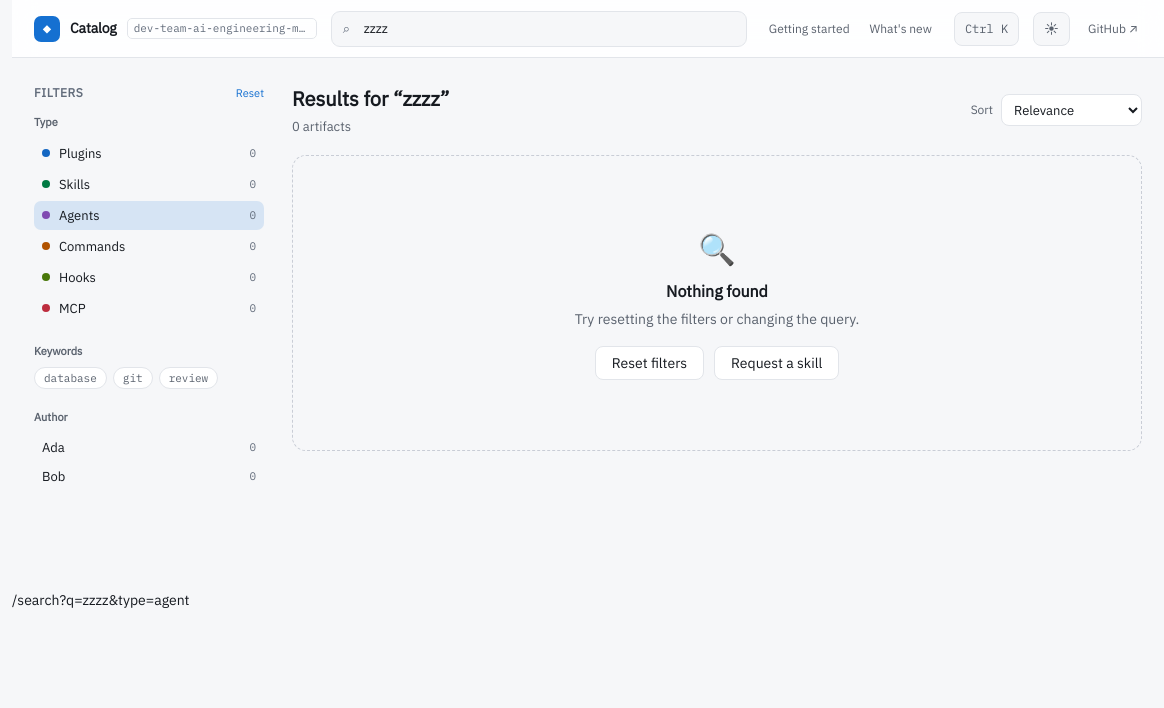
Test: search page URL state › shows the nothing-found state with Reset filters and Request a skill
expect the heading "Nothing found" is shown: met, box [666, 280, 768, 300]
expect the text "0 artifacts" is shown: met, box [292, 118, 351, 135]
Click the button "Reset filters" at (649, 362), box [595, 346, 704, 380]
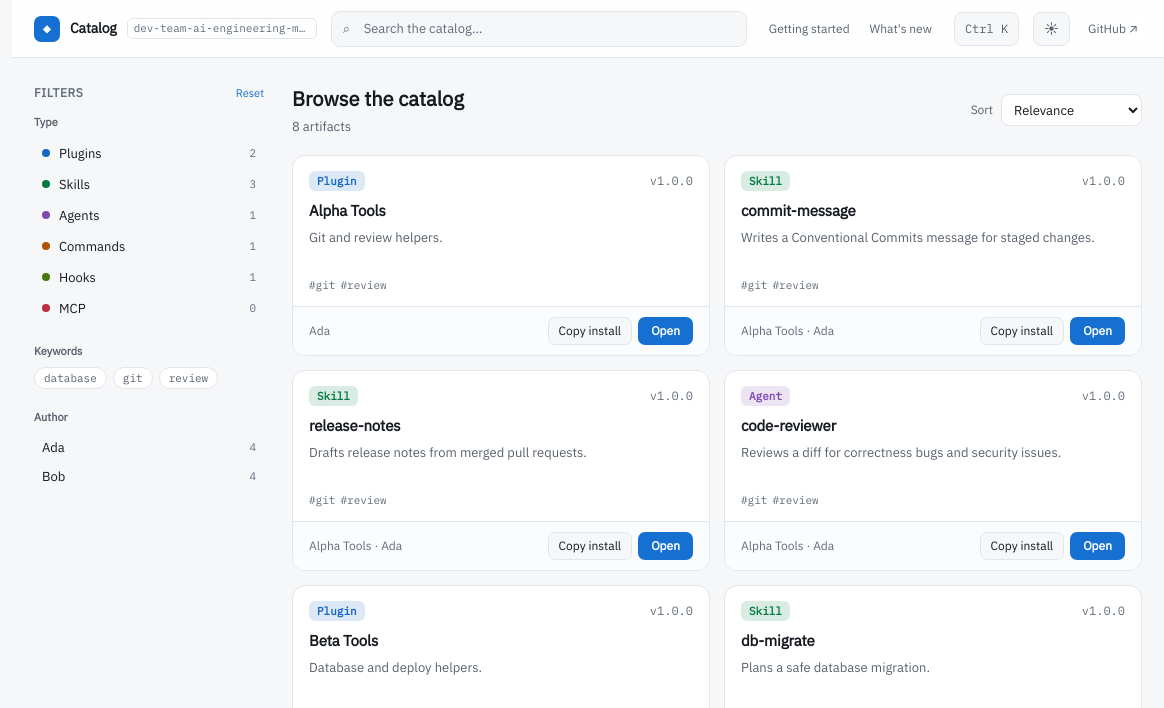
expect the text "8 artifacts" is shown: met, box [292, 118, 351, 135]
expect the field labelled "Search the catalog" is empty: met, box [331, 10, 747, 46]
